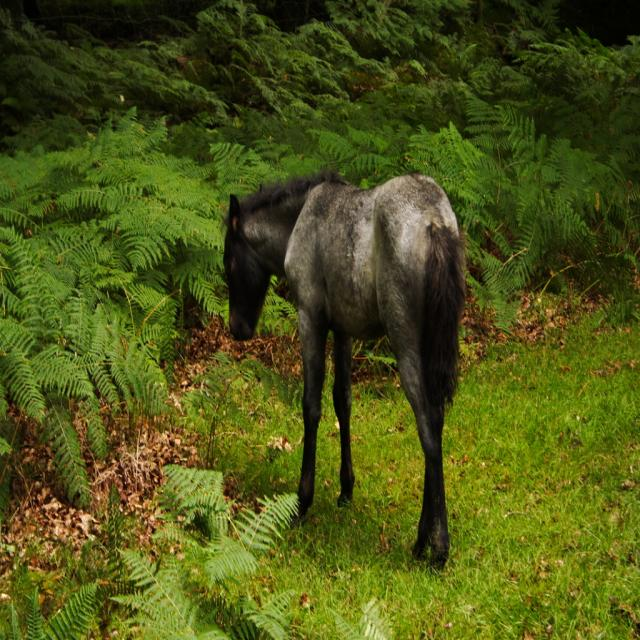Horse: (220, 167, 466, 576)
